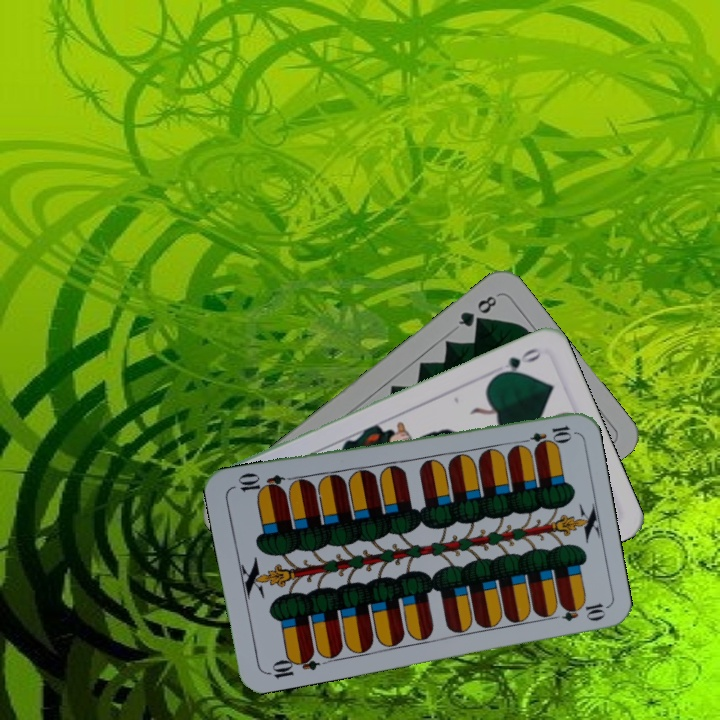E10: (263, 648, 321, 681), (515, 421, 574, 448)
G8: (454, 291, 500, 330)
GO: (491, 344, 545, 380)
